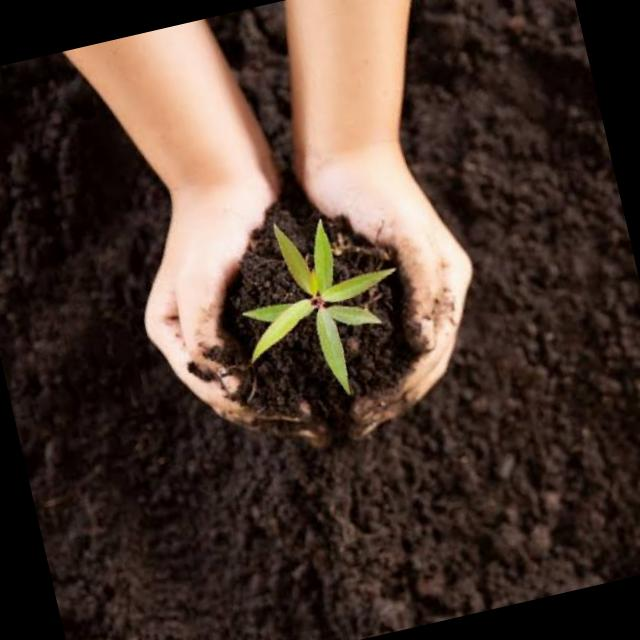suelo_humedo: (31, 38, 622, 640)
